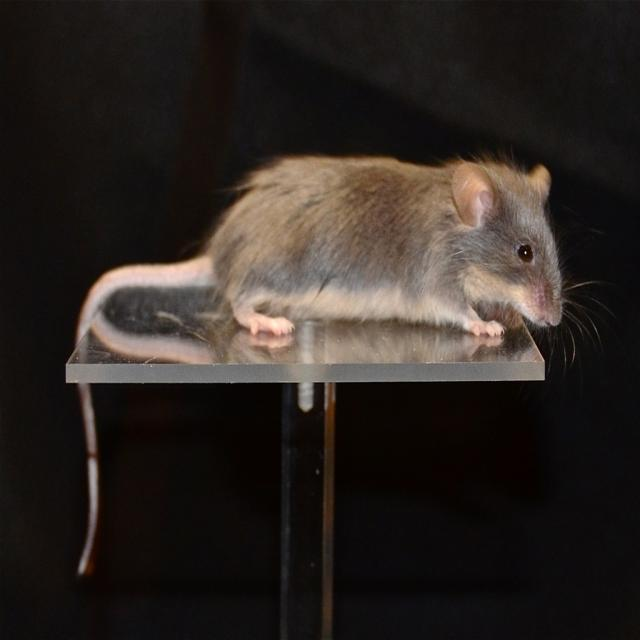rat: (77, 157, 610, 577)
